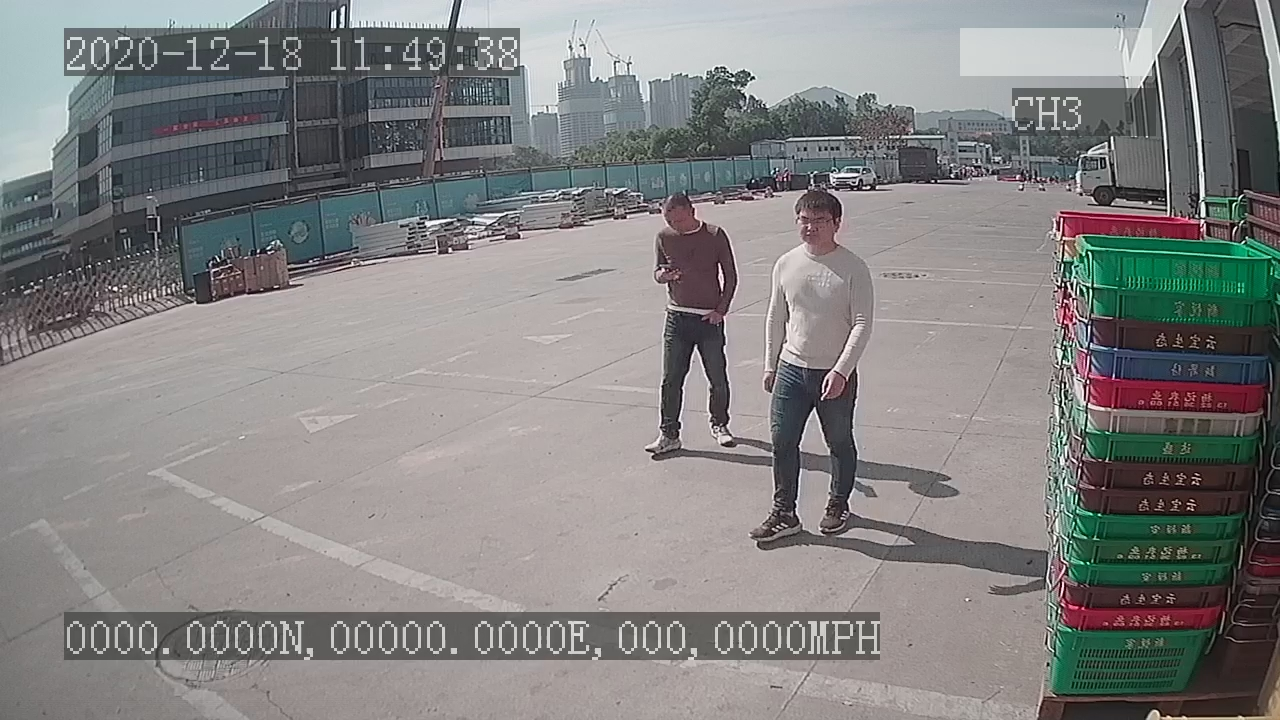person: (747, 183, 883, 545), (638, 186, 740, 461)
